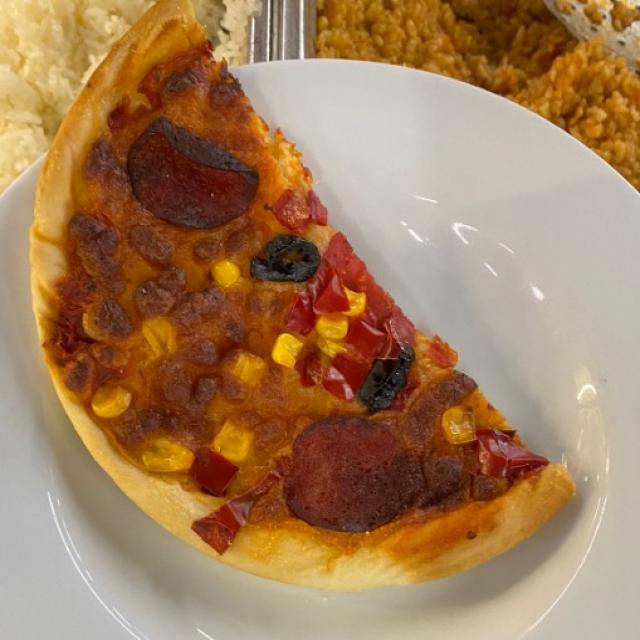ana_yemek: (26, 0, 576, 593)
